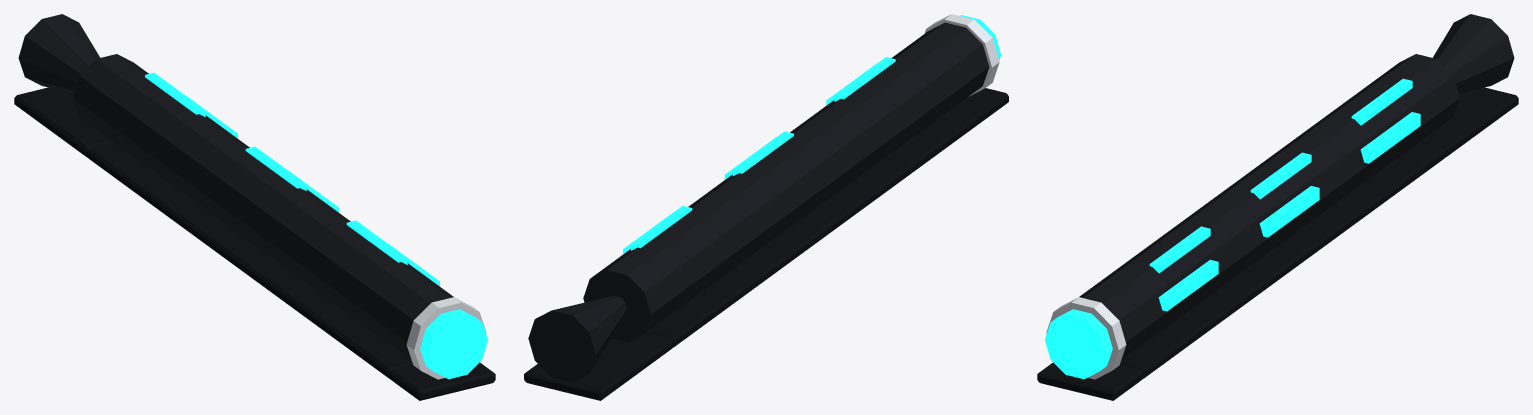
Rendered from rocket_neon_dash.glb.
The picture shows the model from 3 angles, left to right: view 1: azimuth 30°, elevation 25°; view 2: azimuth 150°, elevation 25°; view 3: azimuth 330°, elevation 25°; orthographic projection.
Parts seen in each view (by area): view 1: rocket_neon_dash_MID_deco_body, rocket_neon_dash_MID_deco_trim, rocket_neon_dash_TAIL_deco_body, rocket_neon_dash_HEAD_deco_neon, rocket_neon_dash_TAIL_deco_trim, rocket_neon_dash_MID_deco_neon, rocket_neon_dash_HEAD_deco_trim, rocket_neon_dash_HEAD_chrome, rocket_neon_dash_HEAD_deco_body; view 2: rocket_neon_dash_MID_deco_body, rocket_neon_dash_MID_deco_trim, rocket_neon_dash_TAIL_deco_body, rocket_neon_dash_TAIL_deco_trim, rocket_neon_dash_MID_deco_neon, rocket_neon_dash_HEAD_deco_body, rocket_neon_dash_HEAD_chrome, rocket_neon_dash_HEAD_deco_trim; view 3: rocket_neon_dash_MID_deco_body, rocket_neon_dash_MID_deco_trim, rocket_neon_dash_MID_deco_neon, rocket_neon_dash_TAIL_deco_body, rocket_neon_dash_HEAD_deco_neon, rocket_neon_dash_TAIL_deco_trim, rocket_neon_dash_HEAD_deco_trim, rocket_neon_dash_HEAD_chrome, rocket_neon_dash_HEAD_deco_body.
Part boxes in pixels (x1,y1,x2,y2): rocket_neon_dash_MID_deco_body: (91, 67, 453, 351); rocket_neon_dash_MID_deco_trim: (87, 142, 412, 378); rocket_neon_dash_TAIL_deco_body: (18, 14, 148, 129); rocket_neon_dash_HEAD_deco_neon: (420, 309, 487, 379); rocket_neon_dash_TAIL_deco_trim: (14, 87, 113, 156); rocket_neon_dash_MID_deco_neon: (145, 72, 439, 286); rocket_neon_dash_HEAD_deco_trim: (389, 362, 495, 400); rocket_neon_dash_HEAD_chrome: (406, 297, 486, 379); rocket_neon_dash_HEAD_deco_body: (394, 289, 453, 359); rocket_neon_dash_MID_deco_body: (608, 33, 973, 319); rocket_neon_dash_MID_deco_trim: (646, 109, 978, 347); rocket_neon_dash_TAIL_deco_body: (528, 257, 668, 382); rocket_neon_dash_TAIL_deco_trim: (524, 332, 673, 400); rocket_neon_dash_MID_deco_neon: (623, 57, 895, 254); rocket_neon_dash_HEAD_deco_body: (914, 22, 989, 96); rocket_neon_dash_HEAD_chrome: (924, 14, 999, 96); rocket_neon_dash_HEAD_deco_trim: (951, 88, 1008, 123); rocket_neon_dash_MID_deco_body: (1079, 67, 1441, 351); rocket_neon_dash_MID_deco_trim: (1120, 142, 1445, 378); rocket_neon_dash_MID_deco_neon: (1149, 78, 1420, 311); rocket_neon_dash_TAIL_deco_body: (1383, 14, 1514, 129); rocket_neon_dash_HEAD_deco_neon: (1045, 309, 1112, 379); rocket_neon_dash_TAIL_deco_trim: (1419, 87, 1518, 156); rocket_neon_dash_HEAD_deco_trim: (1037, 362, 1143, 400); rocket_neon_dash_HEAD_chrome: (1046, 297, 1126, 379); rocket_neon_dash_HEAD_deco_body: (1079, 289, 1138, 359).
Size of the model in its own units: 0.15 by 0.1497 by 1.34.
